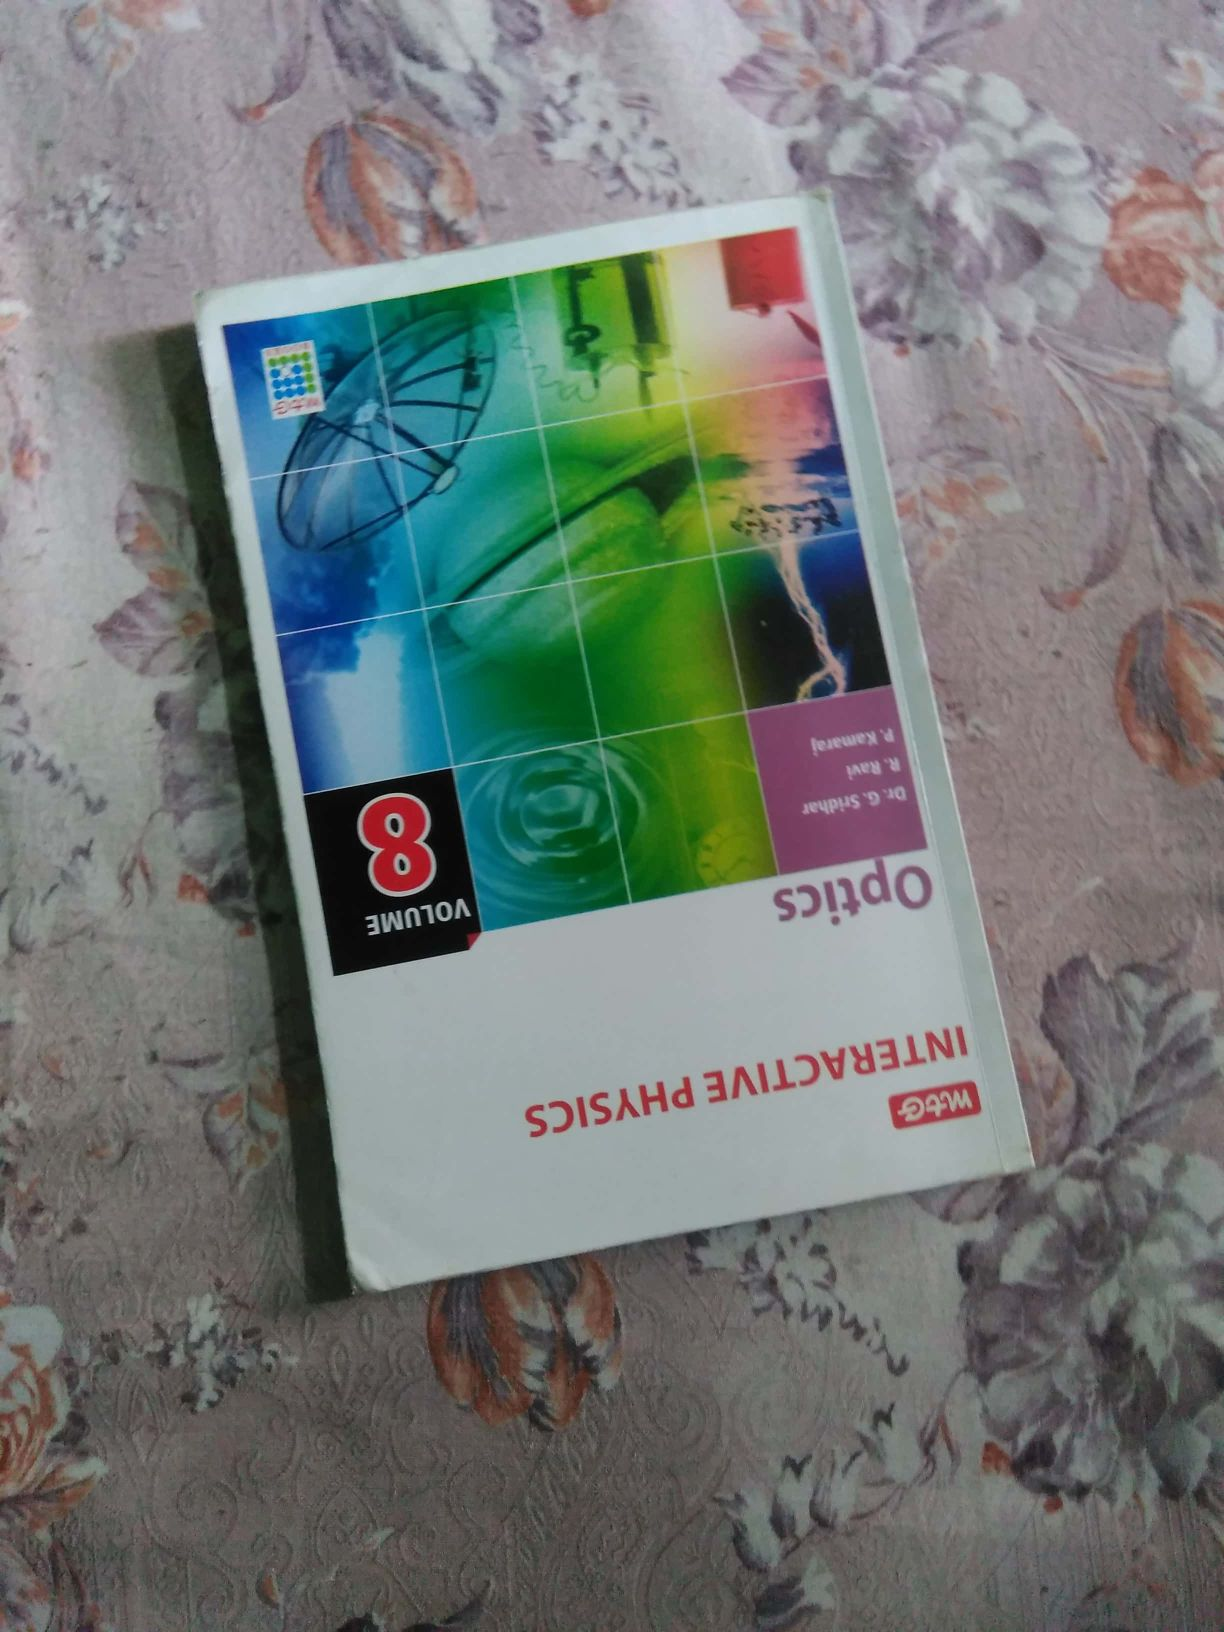optics: (149, 207, 1070, 1298)
